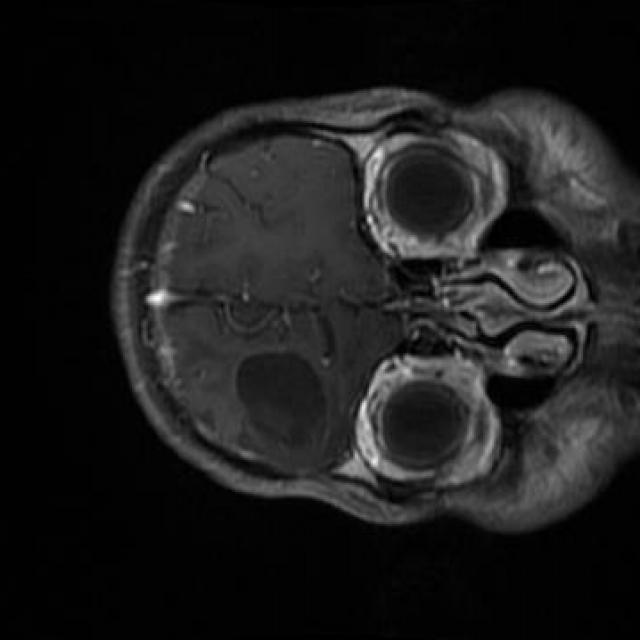glioma: (234, 349, 332, 460)
